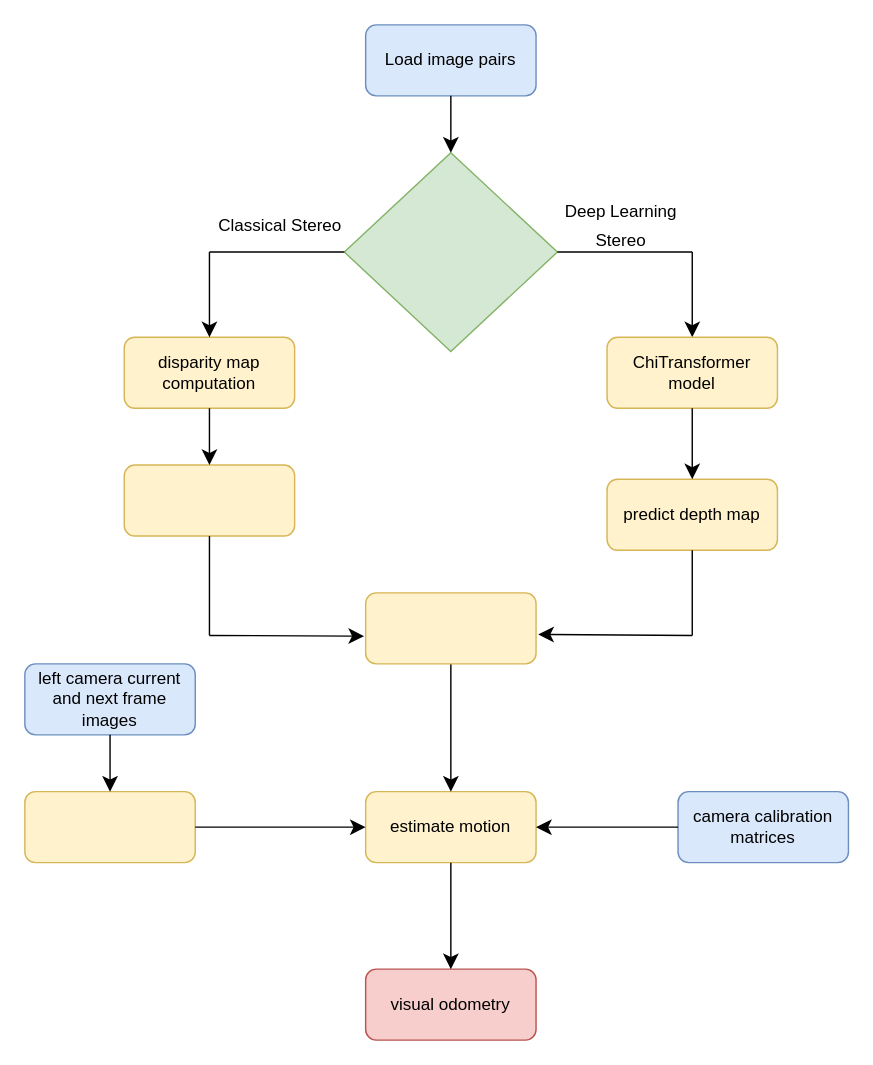
The diagram is 873 pixels wide and 1065 high, and some of its shapes have lost their labels. The centre of each missing label's shape, as x and y in pixels:
binocular stereo depth map: point 450,627
calculate depth map: point 209,500
classicalStereo or DLStereo: point 450,251
feature extraction and matching: point 109,826
